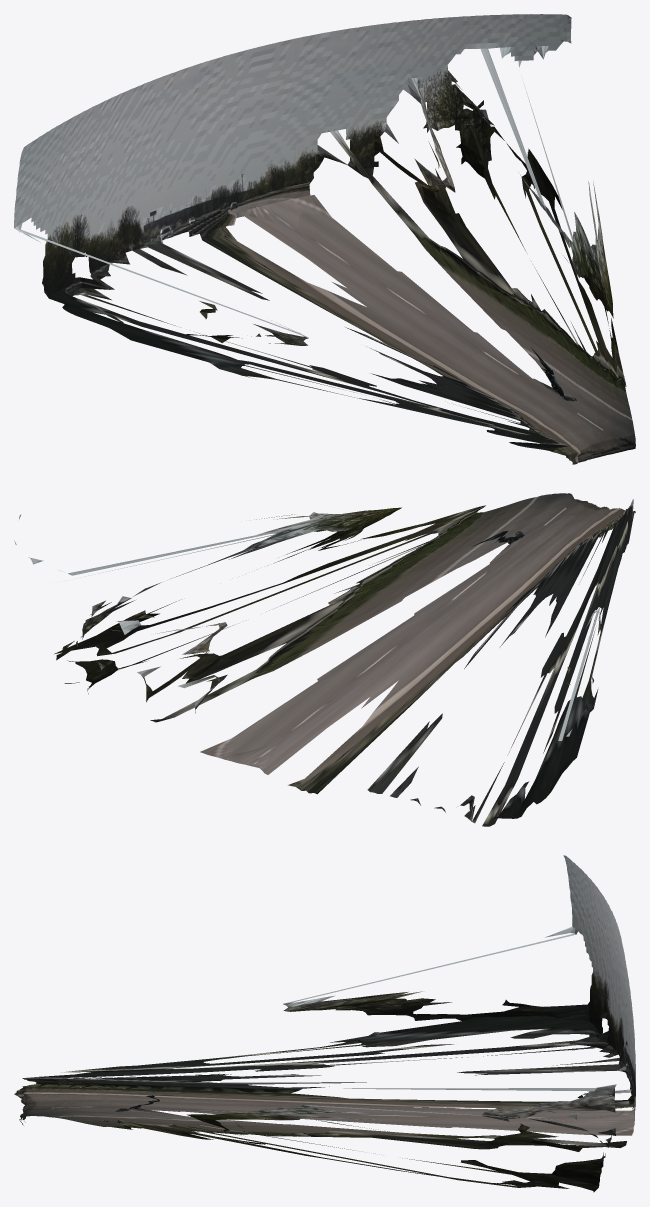
3 renders of one model, top to bottom at view 1: azimuth 30°, elevation 25°; view 2: azimuth 150°, elevation 25°; view 3: azimuth 270°, elevation 25°, orthographic. The views are drawn at different scales.
Visible parts, largest first — view 1: defaultobject; view 2: defaultobject; view 3: defaultobject.
Part boxes in pixels (x1=…): defaultobject: x1=14, y1=14, x2=635, y2=464; defaultobject: x1=14, y1=493, x2=635, y2=826; defaultobject: x1=14, y1=855, x2=635, y2=1192.
Bounding box in the file's own units: 40.92 × 13.39 × 44.69.
Materials: 1 (1 with a texture image).
